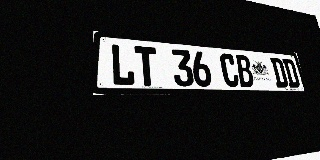3: (171, 49, 194, 87)
6: (190, 51, 213, 87)
B: (234, 54, 255, 87)
C: (219, 53, 240, 87)
D: (270, 57, 289, 88), (282, 59, 301, 88)
L: (110, 44, 135, 86)
T: (134, 46, 159, 86)
